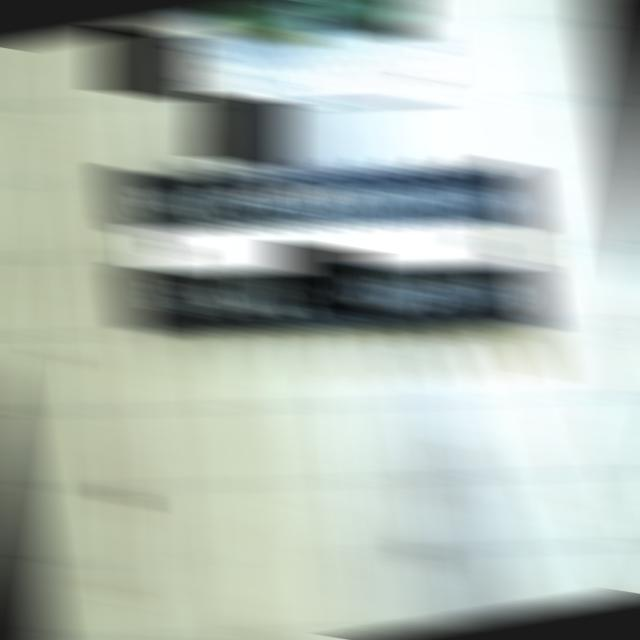Flathead_Block: (108, 160, 547, 333)
Terminal_1: (210, 0, 312, 28), (316, 0, 416, 19)
